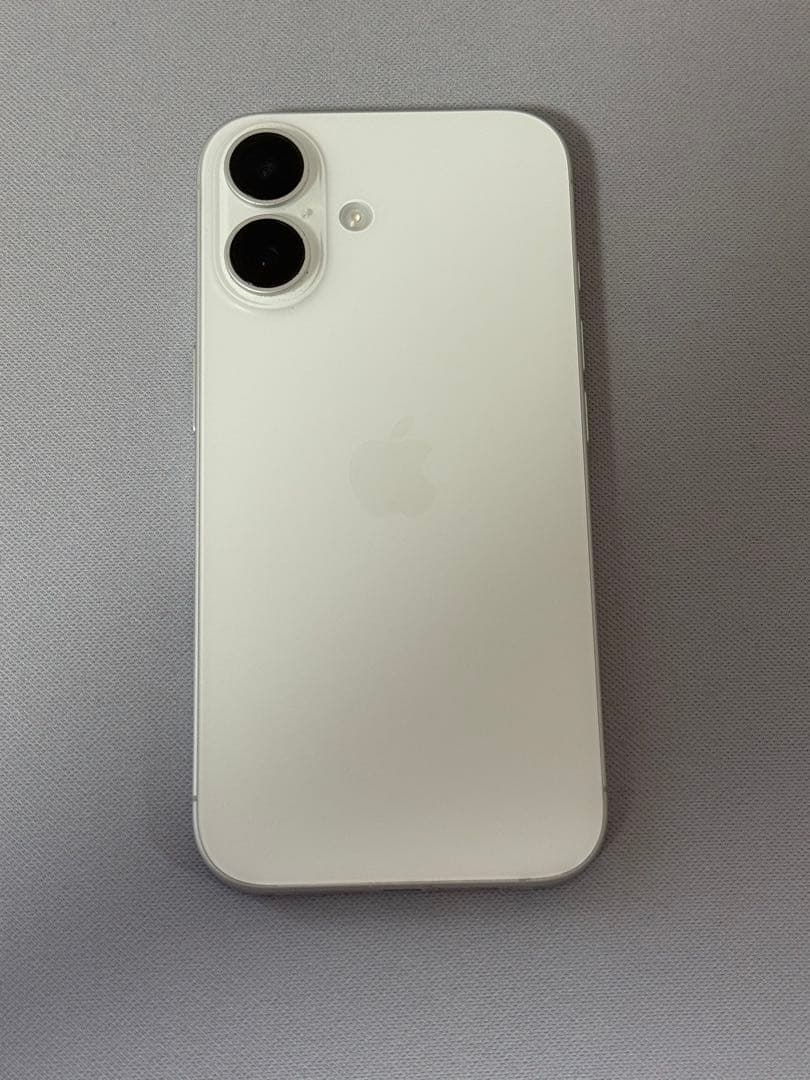iphone16_white: (163, 85, 642, 900), (200, 119, 409, 323)
